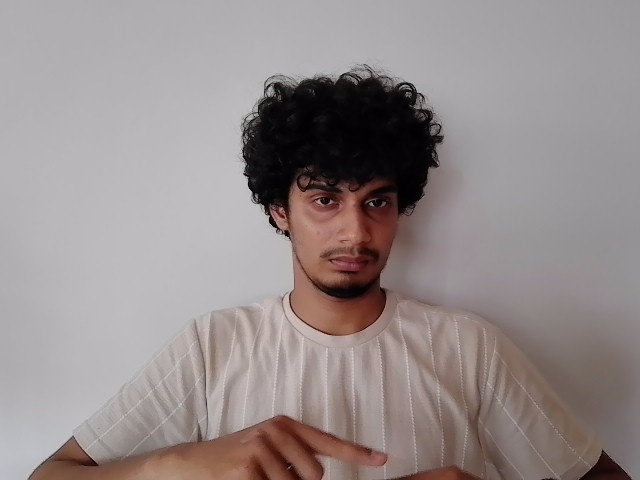about: (181, 410, 515, 480)
